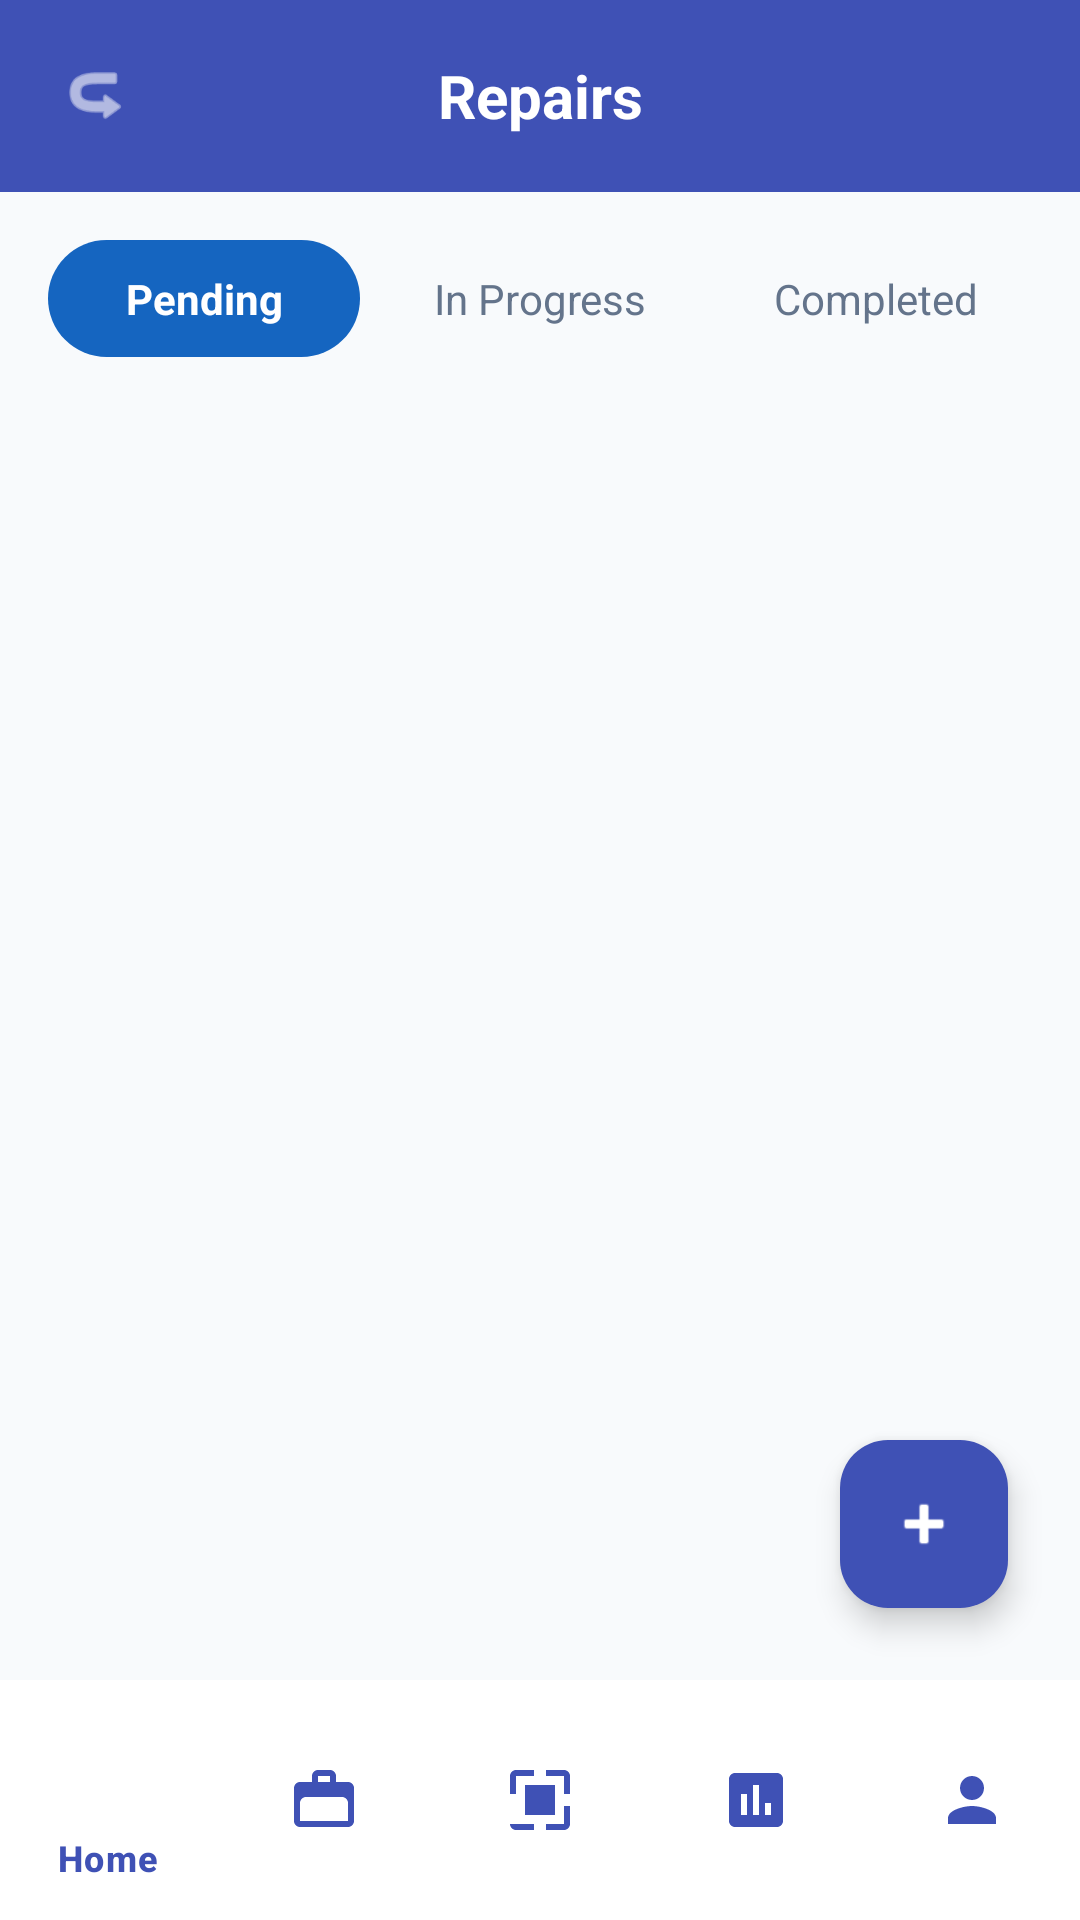

Screen size 1080w x 1920h. Icon name, then its center in pixels as (x=x, y=y):
New Repair: (x=924, y=1524)
